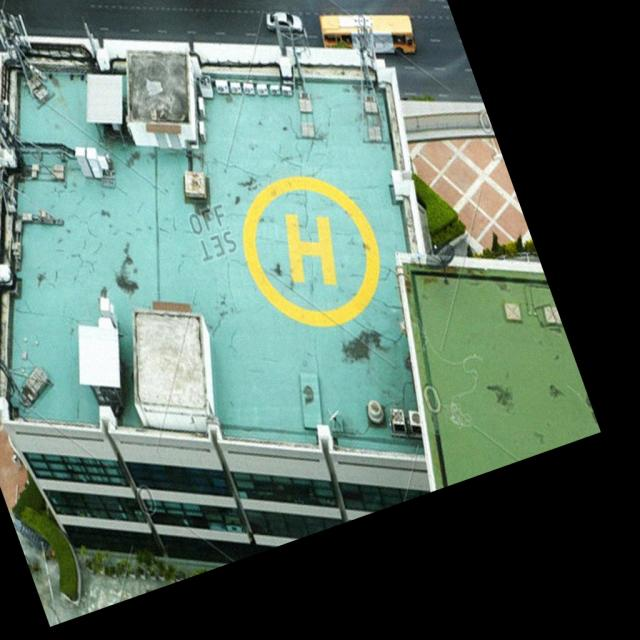helipad: (240, 170, 382, 332)
